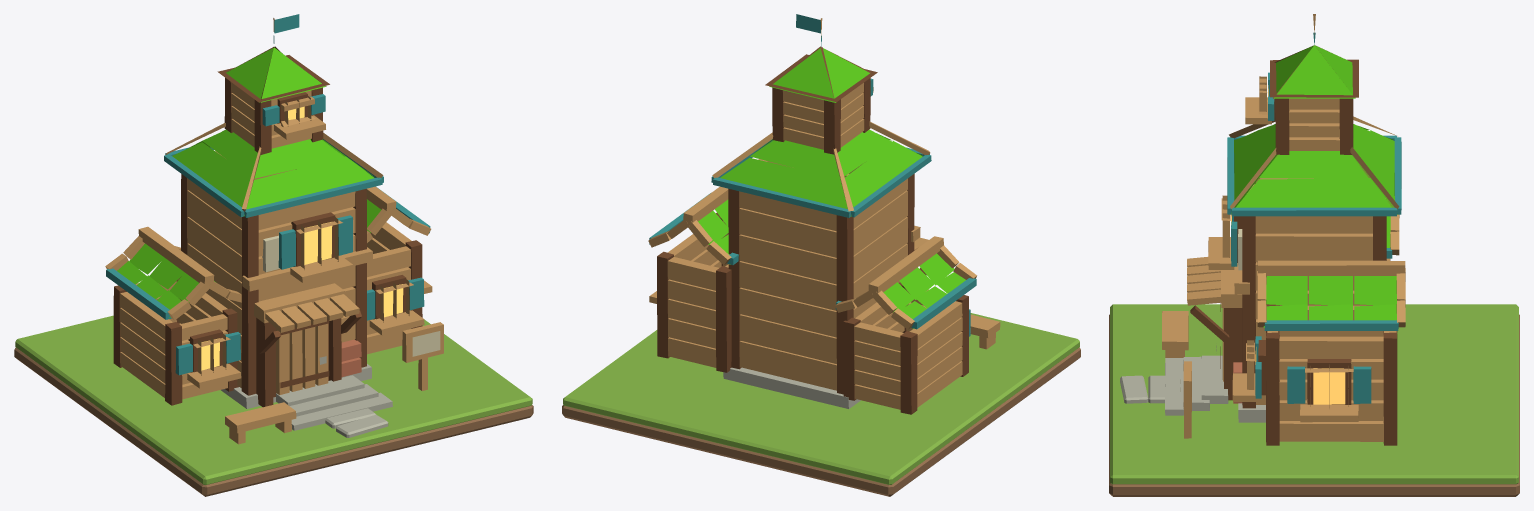
Rendered from town_hall_l05_active_LOD2.glb.
3 renders of one model, left to right at view 1: azimuth 30°, elevation 25°; view 2: azimuth 150°, elevation 25°; view 3: azimuth 270°, elevation 25°, orthographic. The views are drawn at different scales.
Parts seen in each view (by area): view 1: town_hall_l05_active_foundation.001, town_hall_l05_active_grass_tile.001, town_hall_l05_active_earth_tile.001, town_hall_l05_active_path_stone.005; view 2: town_hall_l05_active_foundation.001, town_hall_l05_active_grass_tile.001, town_hall_l05_active_earth_tile.001; view 3: town_hall_l05_active_foundation.001, town_hall_l05_active_grass_tile.001, town_hall_l05_active_earth_tile.001, town_hall_l05_active_path_stone.005, town_hall_l05_active_path_stone.004.
Part boxes in pixels (<box>): town_hall_l05_active_foundation.001: <box>105,14,443,444</box>; town_hall_l05_active_grass_tile.001: <box>15,315,532,484</box>; town_hall_l05_active_earth_tile.001: <box>14,347,533,496</box>; town_hall_l05_active_path_stone.005: <box>336,414,388,437</box>; town_hall_l05_active_foundation.001: <box>648,14,1000,414</box>; town_hall_l05_active_grass_tile.001: <box>563,313,1079,484</box>; town_hall_l05_active_earth_tile.001: <box>562,347,1080,496</box>; town_hall_l05_active_foundation.001: <box>1162,14,1405,445</box>; town_hall_l05_active_grass_tile.001: <box>1110,304,1518,484</box>; town_hall_l05_active_earth_tile.001: <box>1109,314,1519,496</box>; town_hall_l05_active_path_stone.005: <box>1120,375,1148,403</box>; town_hall_l05_active_path_stone.004: <box>1148,375,1165,403</box>.
Size of the model in its own units: 3.6 by 3.85 by 3.6.
